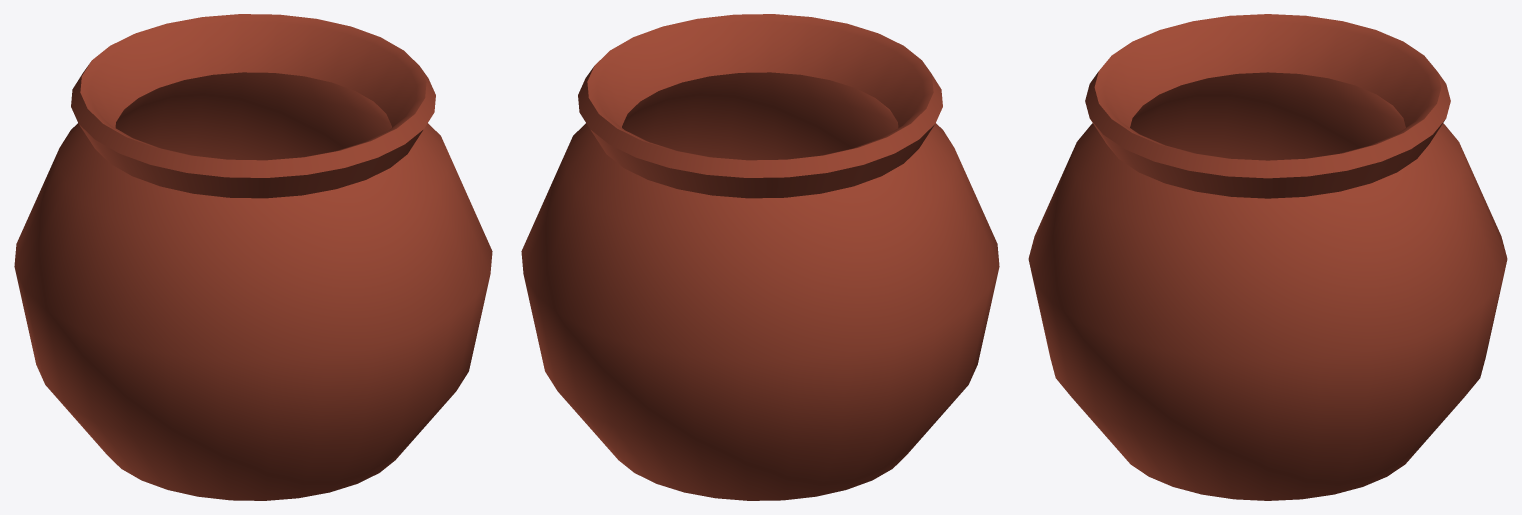
Rendered from pote_barro_grande.glb.
3 views of the same model, side by side, from view 1: azimuth 30°, elevation 25°; view 2: azimuth 150°, elevation 25°; view 3: azimuth 270°, elevation 25° (orthographic).
Visible parts, largest first — view 1: pote_barro_grande; view 2: pote_barro_grande; view 3: pote_barro_grande.
Boxes of the visible parts, box(x1,y1,x2,y2) form: pote_barro_grande: box(14, 14, 492, 500); pote_barro_grande: box(521, 14, 999, 500); pote_barro_grande: box(1028, 14, 1507, 500).
Bounding box in the file's own units: 0.176 × 0.1416 × 0.176.
1 material, 1 textured.
